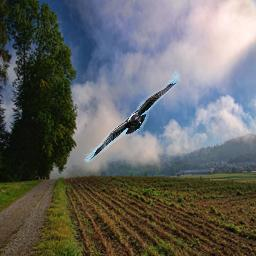Crow: (83, 71, 181, 163)
